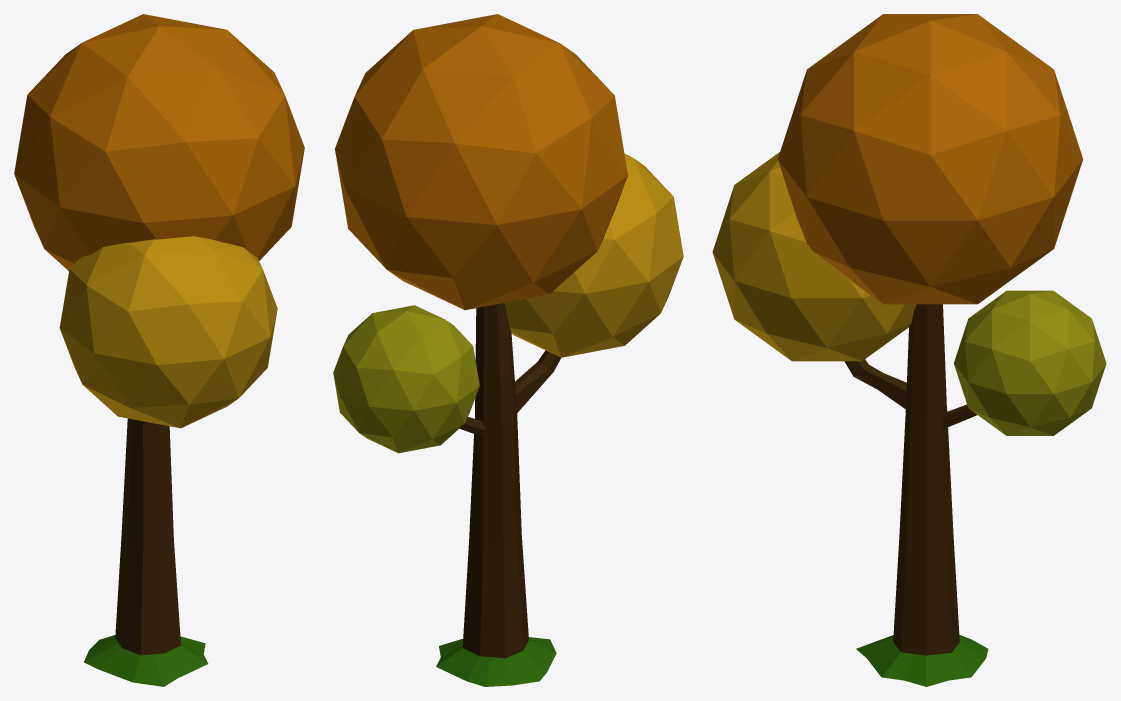
The model's file is treeHighOrange.glb.
3 renders of one model, left to right at view 1: azimuth 30°, elevation 25°; view 2: azimuth 150°, elevation 25°; view 3: azimuth 270°, elevation 25°, orthographic. The views are drawn at different scales.
Visible parts, largest first — view 1: Icosphere, Icosphere.002, Cube; view 2: Icosphere, Cube, Icosphere.002, Icosphere.001; view 3: Icosphere, Cube, Icosphere.002, Icosphere.001.
Part boxes in pixels (x1,y1,x2,y2): Icosphere: [14, 14, 304, 270]; Icosphere.002: [59, 236, 277, 428]; Cube: [84, 418, 208, 686]; Icosphere: [335, 14, 627, 310]; Cube: [436, 303, 560, 686]; Icosphere.002: [504, 154, 683, 357]; Icosphere.001: [333, 305, 479, 453]; Icosphere: [778, 14, 1083, 304]; Cube: [844, 304, 988, 686]; Icosphere.002: [712, 152, 916, 361]; Icosphere.001: [954, 290, 1106, 435].
Size of the model in its own units: 7.94 by 18.61 by 10.32.
